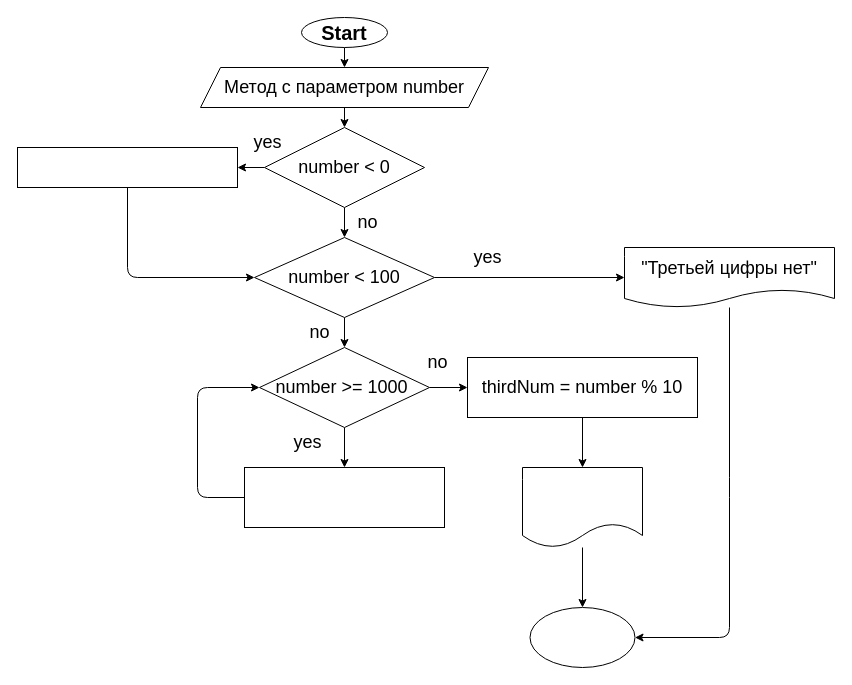
Image size: 852x685. Some labels were removed from this diagram. The shapes that lost their labels are listed below. From the top down, each one's centre as x and y in pixels, then its label:
point 127,167: number = number * -1
point 344,497: number = number / 10
point 582,507: thirdNum
point 582,637: end
